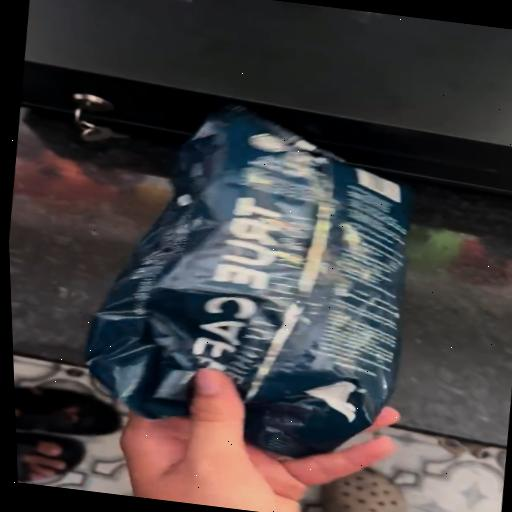cafe_hat: (88, 109, 409, 458)
